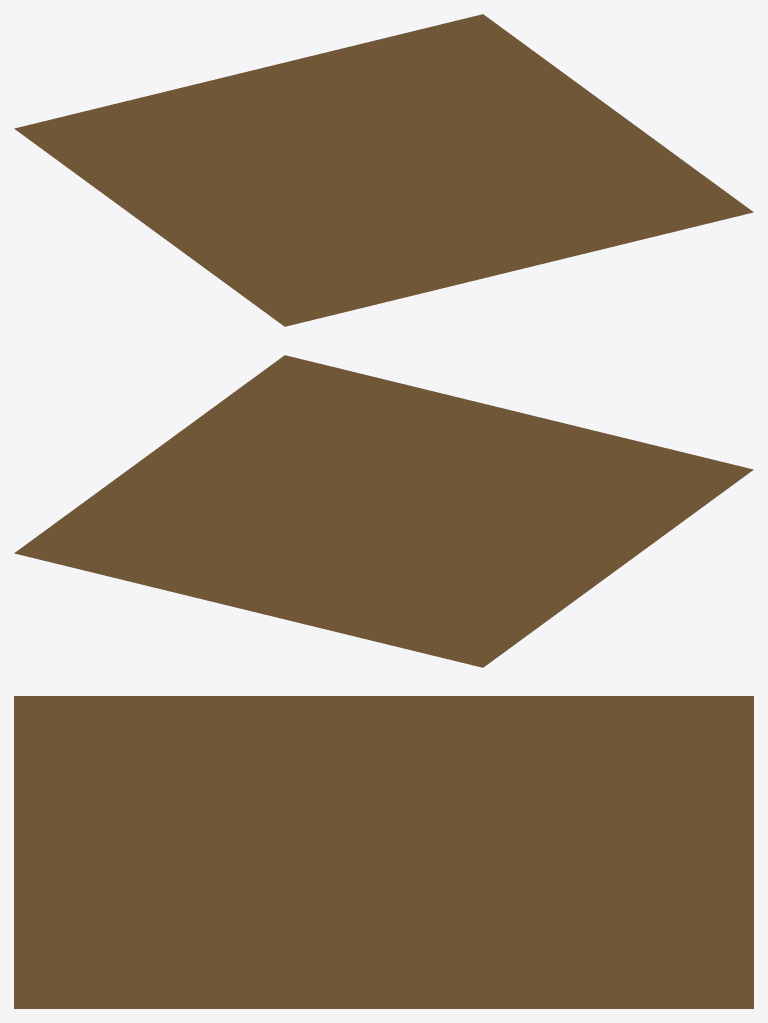
The model's file is Baldosa.fbx.
The picture shows the model from 3 angles, top to bottom: view 1: azimuth 30°, elevation 25°; view 2: azimuth 150°, elevation 25°; view 3: azimuth 270°, elevation 25°; orthographic projection. The views are drawn at different scales.
Parts seen in each view (by area): view 1: pPlane1; view 2: pPlane1; view 3: pPlane1.
Part boxes in pixels (<box>): pPlane1: <box>14,14,753,326</box>; pPlane1: <box>14,355,753,667</box>; pPlane1: <box>14,696,753,1008</box>.
Size of the model in its own units: 2.72 by 0 by 2.72.
